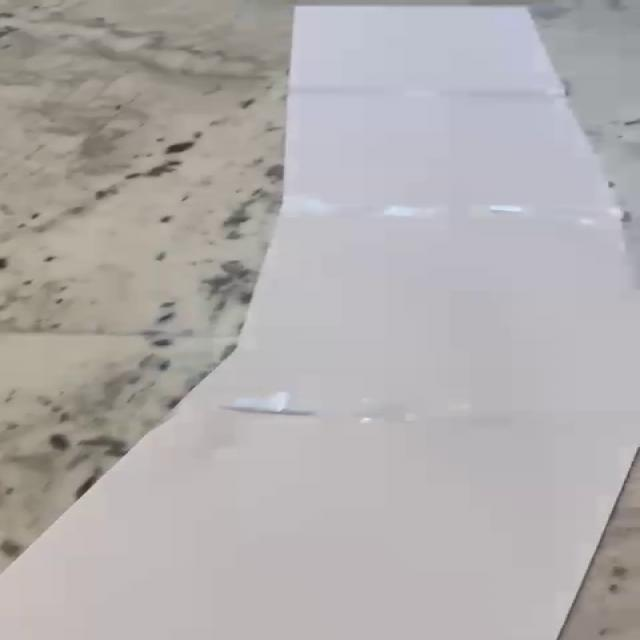road: (0, 5, 640, 640)
